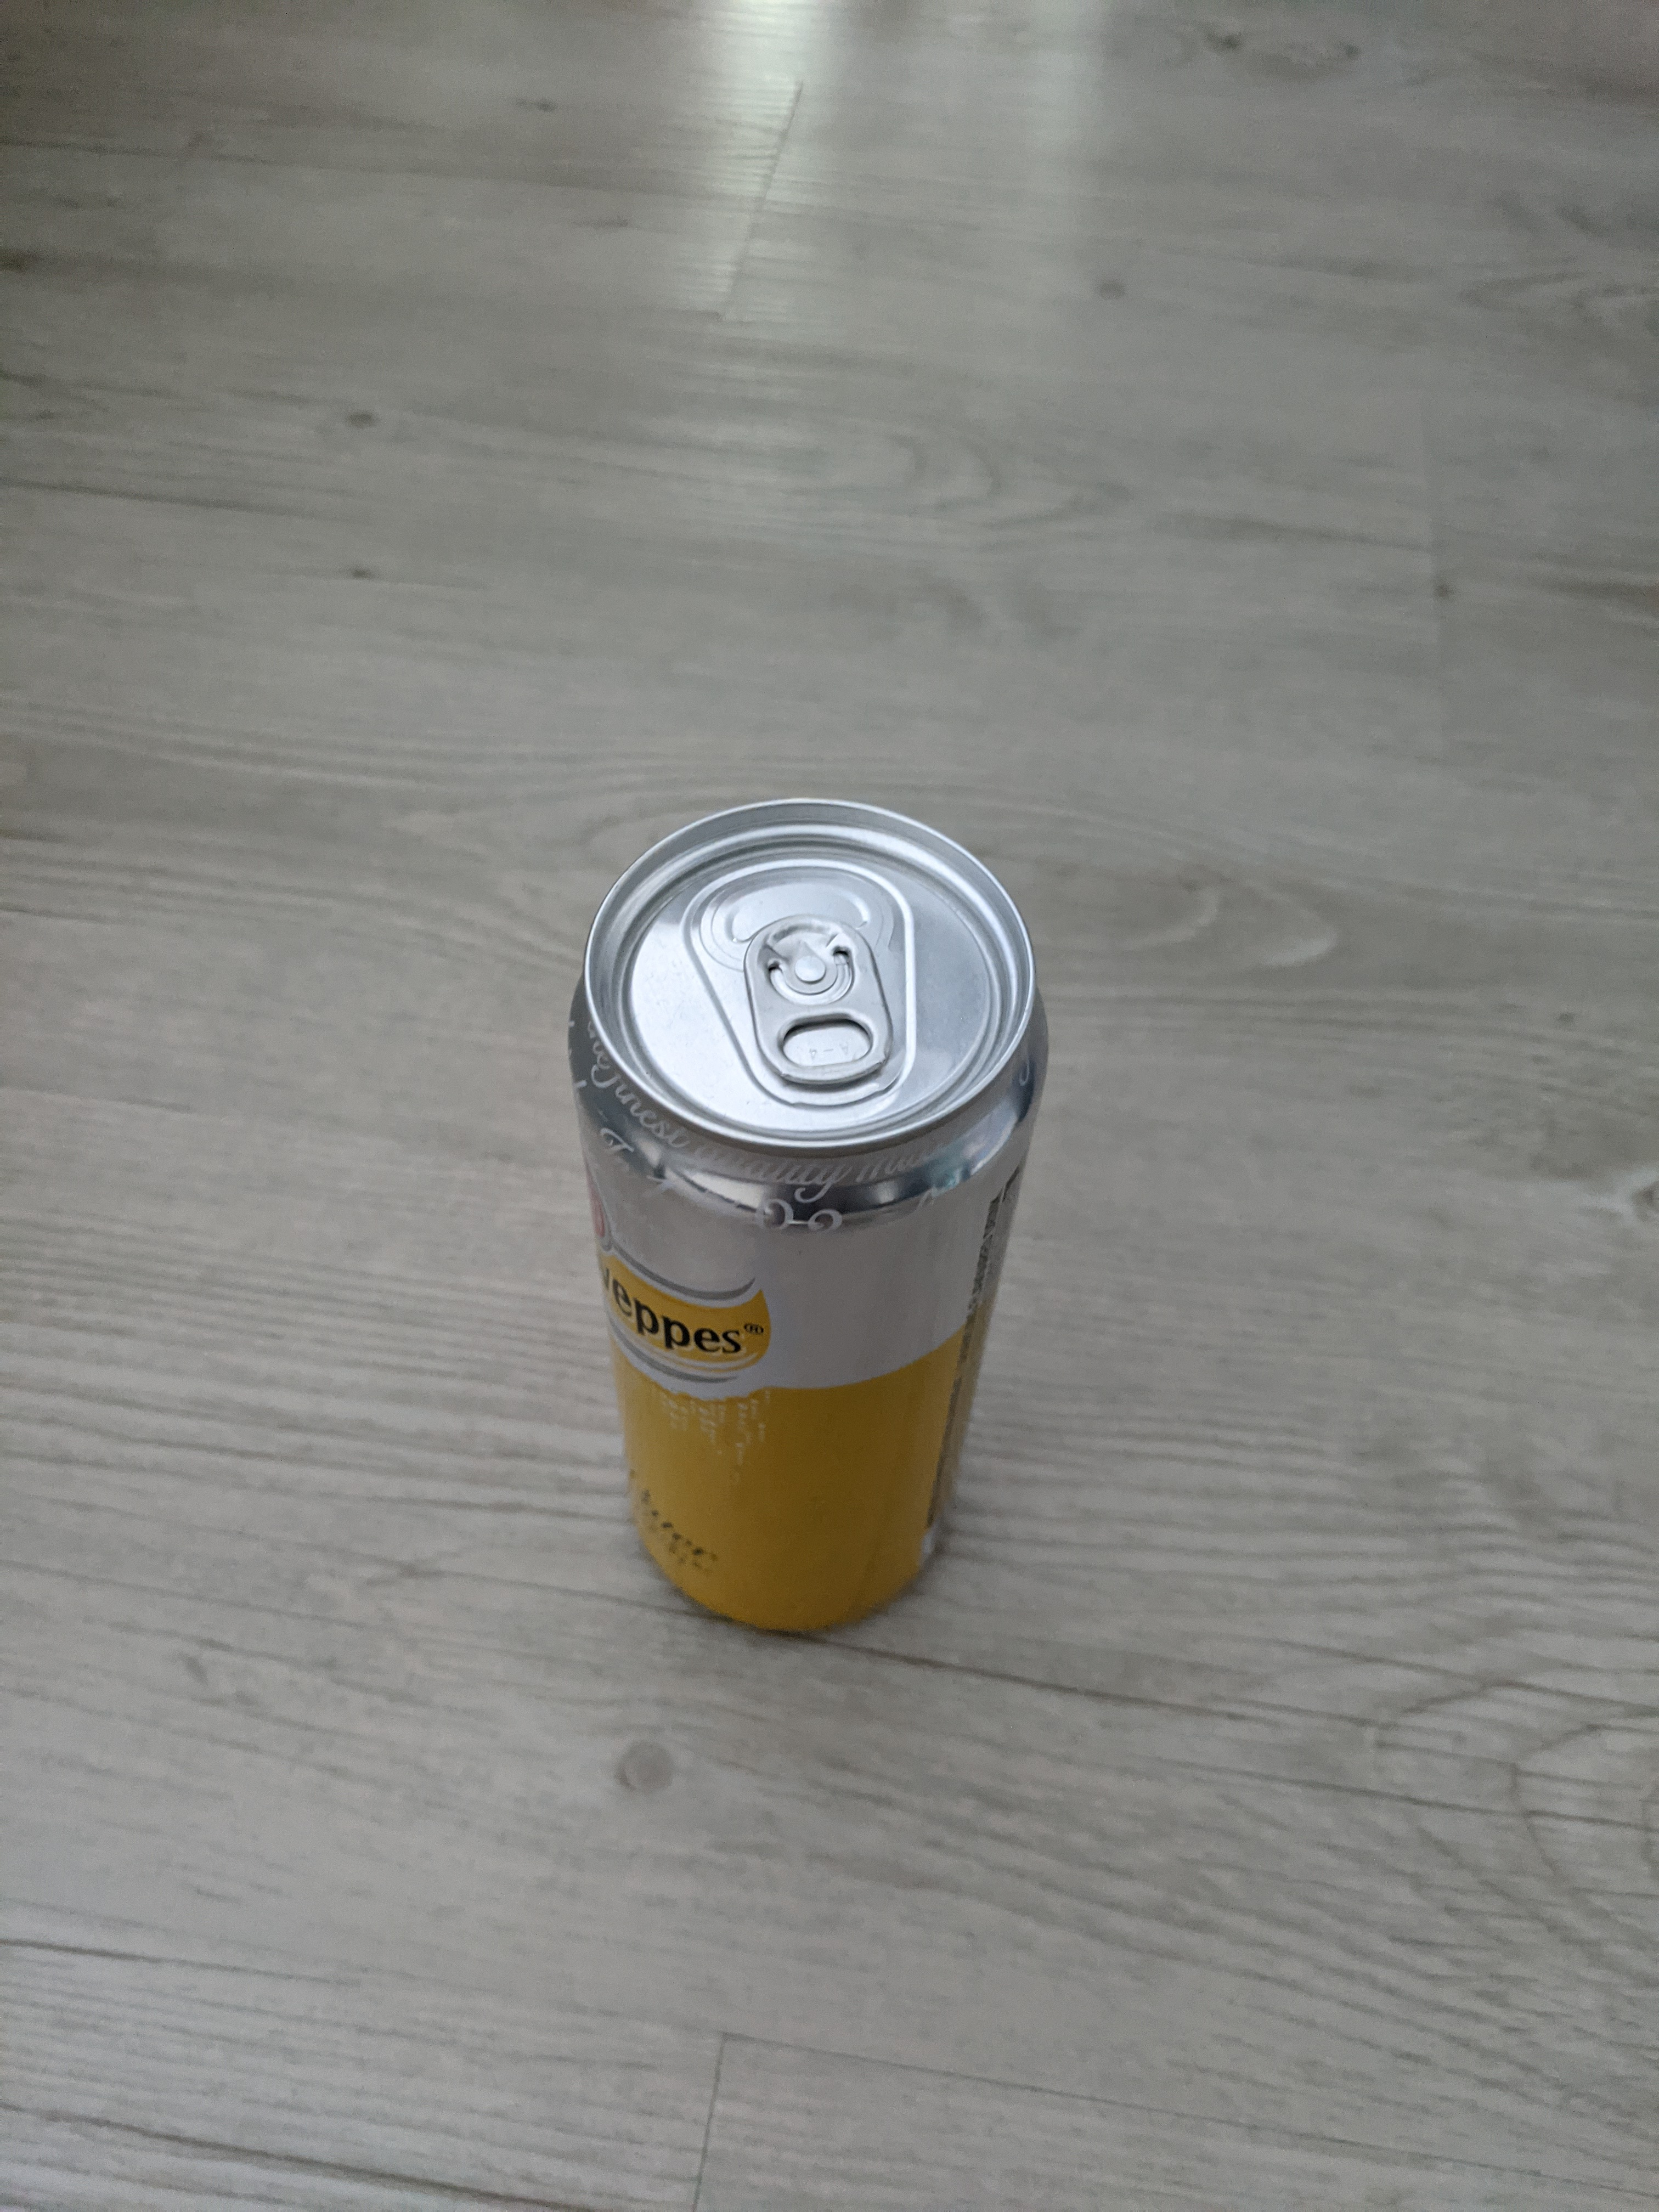schweppes drink can tonic water: (552, 775, 1063, 1656)
